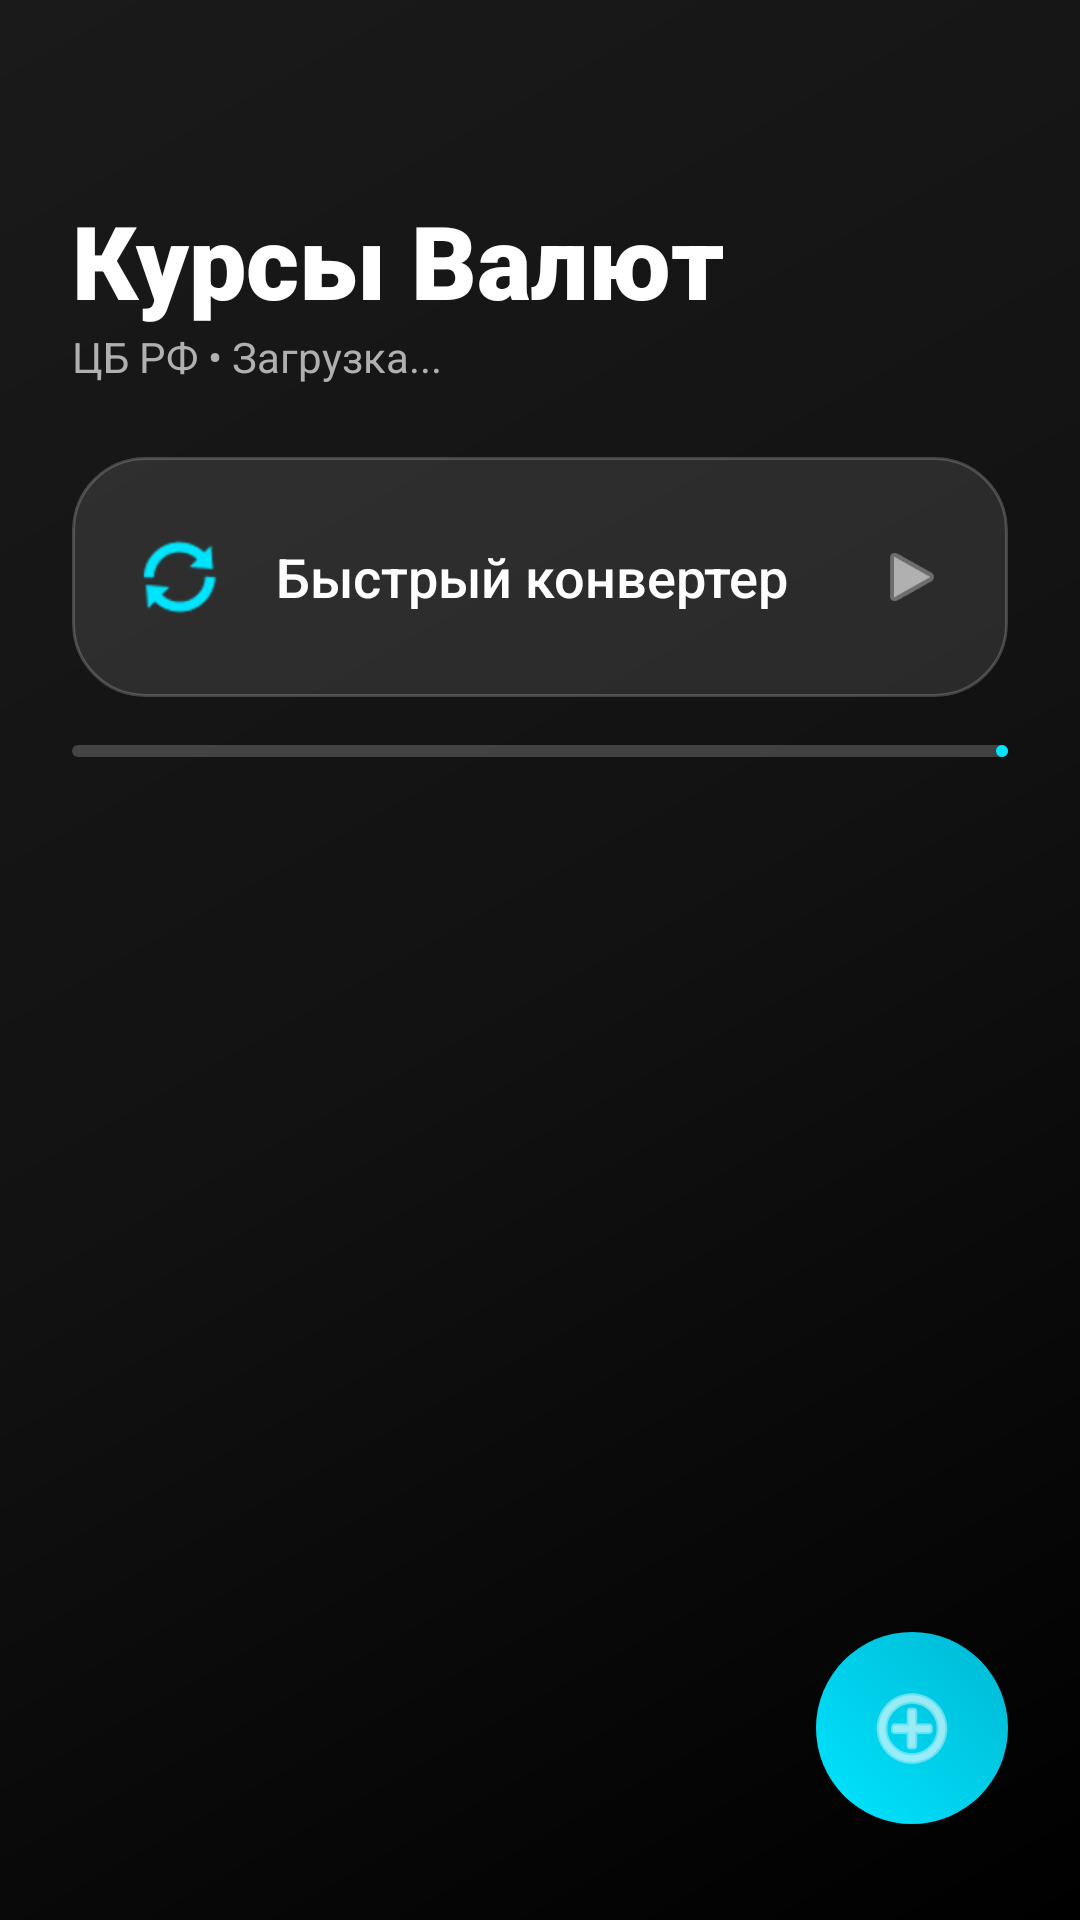

Screen size 1080 x 1920. Icon name, then its center in pixels as (x,y):
add: (912,1728)
play: (912,577)
popup sync: (180,577)
